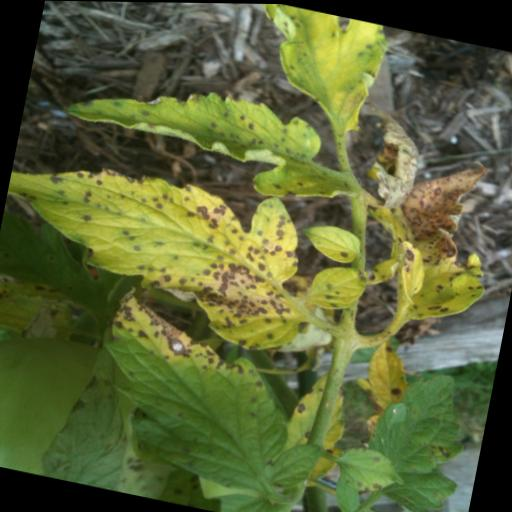Septoria: (0, 140, 329, 362), (80, 281, 346, 512), (54, 61, 371, 217), (362, 142, 512, 337), (242, 3, 393, 139), (366, 360, 478, 485), (330, 440, 412, 498), (304, 258, 368, 319), (293, 216, 365, 268)
